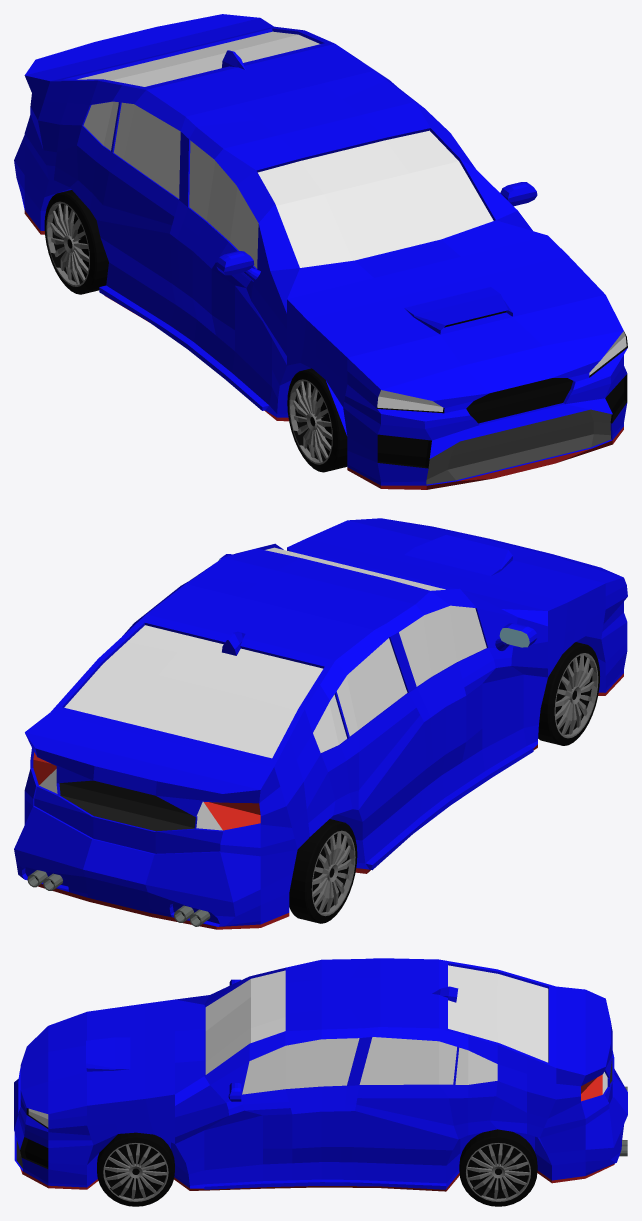
Rendered from Car.fbx.
3 renders of one model, top to bottom at view 1: azimuth 30°, elevation 25°; view 2: azimuth 150°, elevation 25°; view 3: azimuth 270°, elevation 25°, orthographic. The views are drawn at different scales.
Visible parts, largest first — view 1: Car.Raw, Windows, Doors, Front.GridBig, Back.Right.Tire, Front.Grid, Front.Right.Rim, Back.Right.Rim, Front.Right.Tire, FrontSide.Grids, Outlines.Down, Mirror.Outer (+1 smaller); view 2: Car.Raw, Windows, Doors, Back.Grid, Back.Right.Tire, Front.Right.Tire, Back.Right.Rim, Front.Right.Rim, Back.Lights, Outlines.Down, ExhaustPipes; view 3: Car.Raw, Windows, Doors, Back.Left.Tire, Front.Left.Tire, Back.Left.Rim, Front.Left.Rim, Outlines.Down, Back.Lights, FrontSide.Grids.
Part boxes in pixels (<box>): Car.Raw: <box>14,14,627,485</box>; Windows: <box>77,31,493,268</box>; Doors: <box>177,207,254,372</box>; Front.GridBig: <box>426,409,611,484</box>; Back.Right.Tire: <box>44,190,108,294</box>; Front.Grid: <box>466,378,572,423</box>; Front.Right.Rim: <box>289,379,332,464</box>; Back.Right.Rim: <box>46,201,89,286</box>; Front.Right.Tire: <box>287,368,347,472</box>; FrontSide.Grids: <box>377,377,624,466</box>; Outlines.Down: <box>24,210,623,489</box>; Mirror.Outer: <box>216,182,537,281</box>; Car.Raw: <box>14,518,627,926</box>; Windows: <box>64,547,486,758</box>; Doors: <box>417,648,495,807</box>; Back.Grid: <box>59,780,195,831</box>; Back.Right.Tire: <box>289,819,357,923</box>; Front.Right.Tire: <box>538,642,599,745</box>; Back.Right.Rim: <box>311,830,355,916</box>; Front.Right.Rim: <box>554,653,598,738</box>; Back.Lights: <box>33,752,260,830</box>; Outlines.Down: <box>38,673,623,929</box>; ExhaustPipes: <box>27,870,210,926</box>; Car.Raw: <box>14,958,627,1189</box>; Windows: <box>205,965,548,1094</box>; Doors: <box>242,1086,346,1180</box>; Back.Left.Tire: <box>459,1129,537,1206</box>; Front.Left.Tire: <box>97,1132,174,1206</box>; Back.Left.Rim: <box>466,1143,530,1201</box>; Front.Left.Rim: <box>103,1143,168,1201</box>; Outlines.Down: <box>20,1164,614,1191</box>; Back.Lights: <box>581,1072,607,1101</box>; FrontSide.Grids: <box>25,1139,48,1167</box>.
Size of the model in its own units: 225 by 158 by 511.
